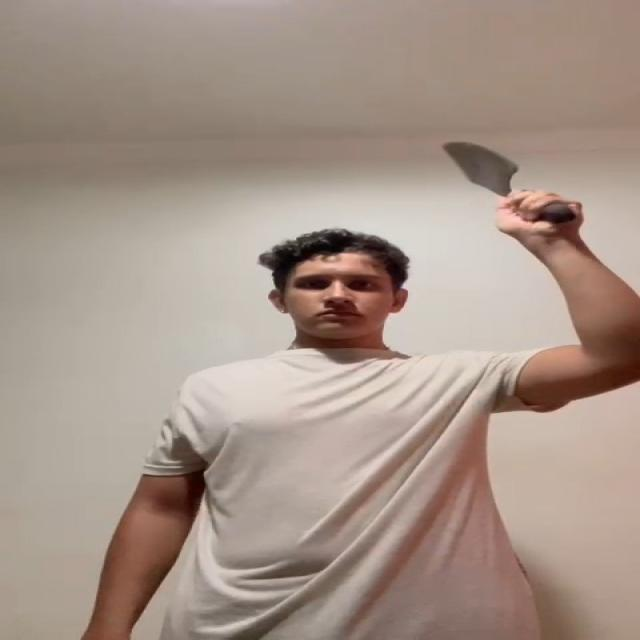knife: (444, 138, 524, 194)
